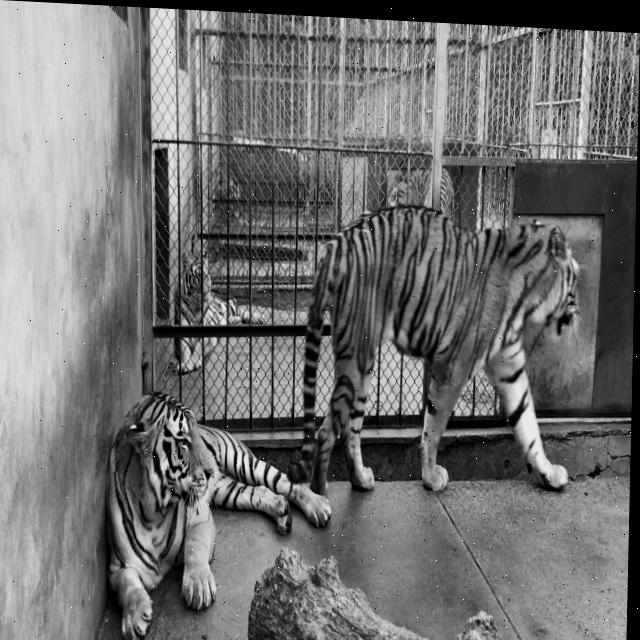Tiger: (286, 196, 584, 509), (102, 387, 335, 640), (171, 246, 266, 379), (385, 162, 455, 222)
